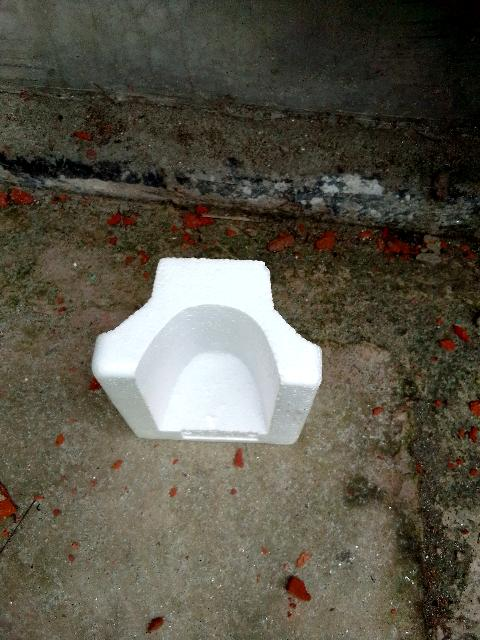cocksheet: (40, 213, 384, 499)
